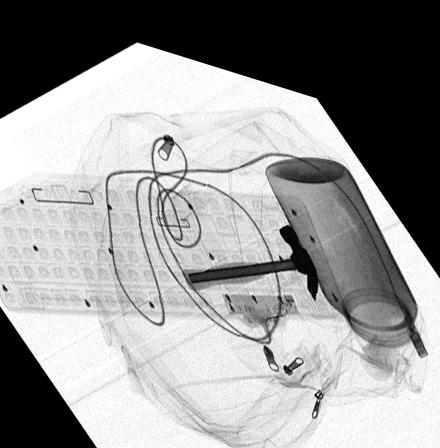Hammer: (180, 206, 319, 283)
